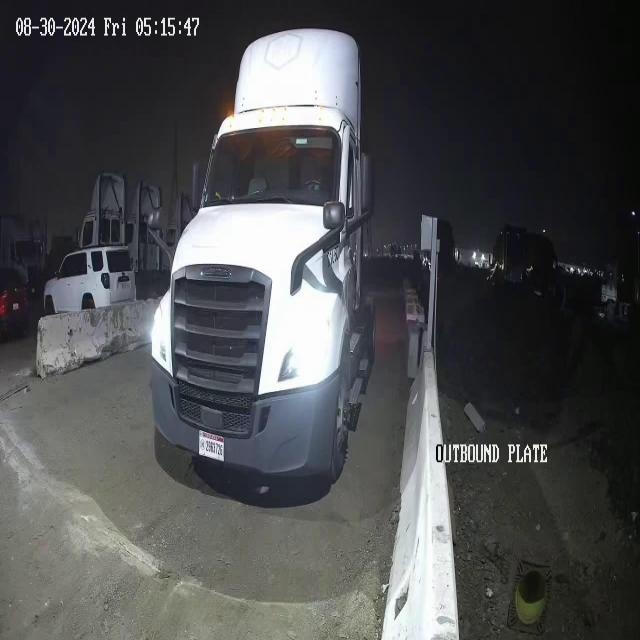TRUCK_OUT: (149, 26, 377, 497)
